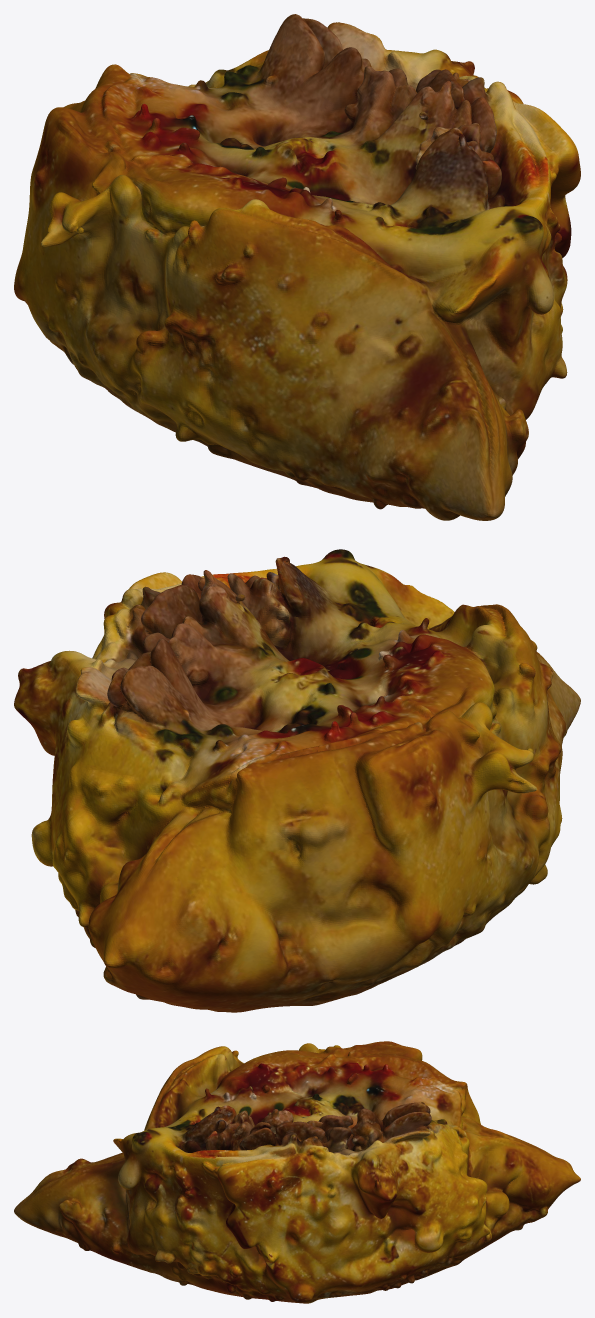
The model's file is Matambre-a-la-Pizza-3D.glb.
3 renders of one model, top to bottom at view 1: azimuth 30°, elevation 25°; view 2: azimuth 150°, elevation 25°; view 3: azimuth 270°, elevation 25°, orthographic. The views are drawn at different scales.
Visible parts, largest first — view 1: tripo_node_768f94e8-870e-41a5-92df-2157d6fb6d00; view 2: tripo_node_768f94e8-870e-41a5-92df-2157d6fb6d00; view 3: tripo_node_768f94e8-870e-41a5-92df-2157d6fb6d00.
Part boxes in pixels (<box>): tripo_node_768f94e8-870e-41a5-92df-2157d6fb6d00: <box>14,14,580,520</box>; tripo_node_768f94e8-870e-41a5-92df-2157d6fb6d00: <box>14,549,580,1012</box>; tripo_node_768f94e8-870e-41a5-92df-2157d6fb6d00: <box>14,1041,580,1303</box>.
Size of the model in its own units: 0.6087 by 0.376 by 1.
1 material, 1 textured.
